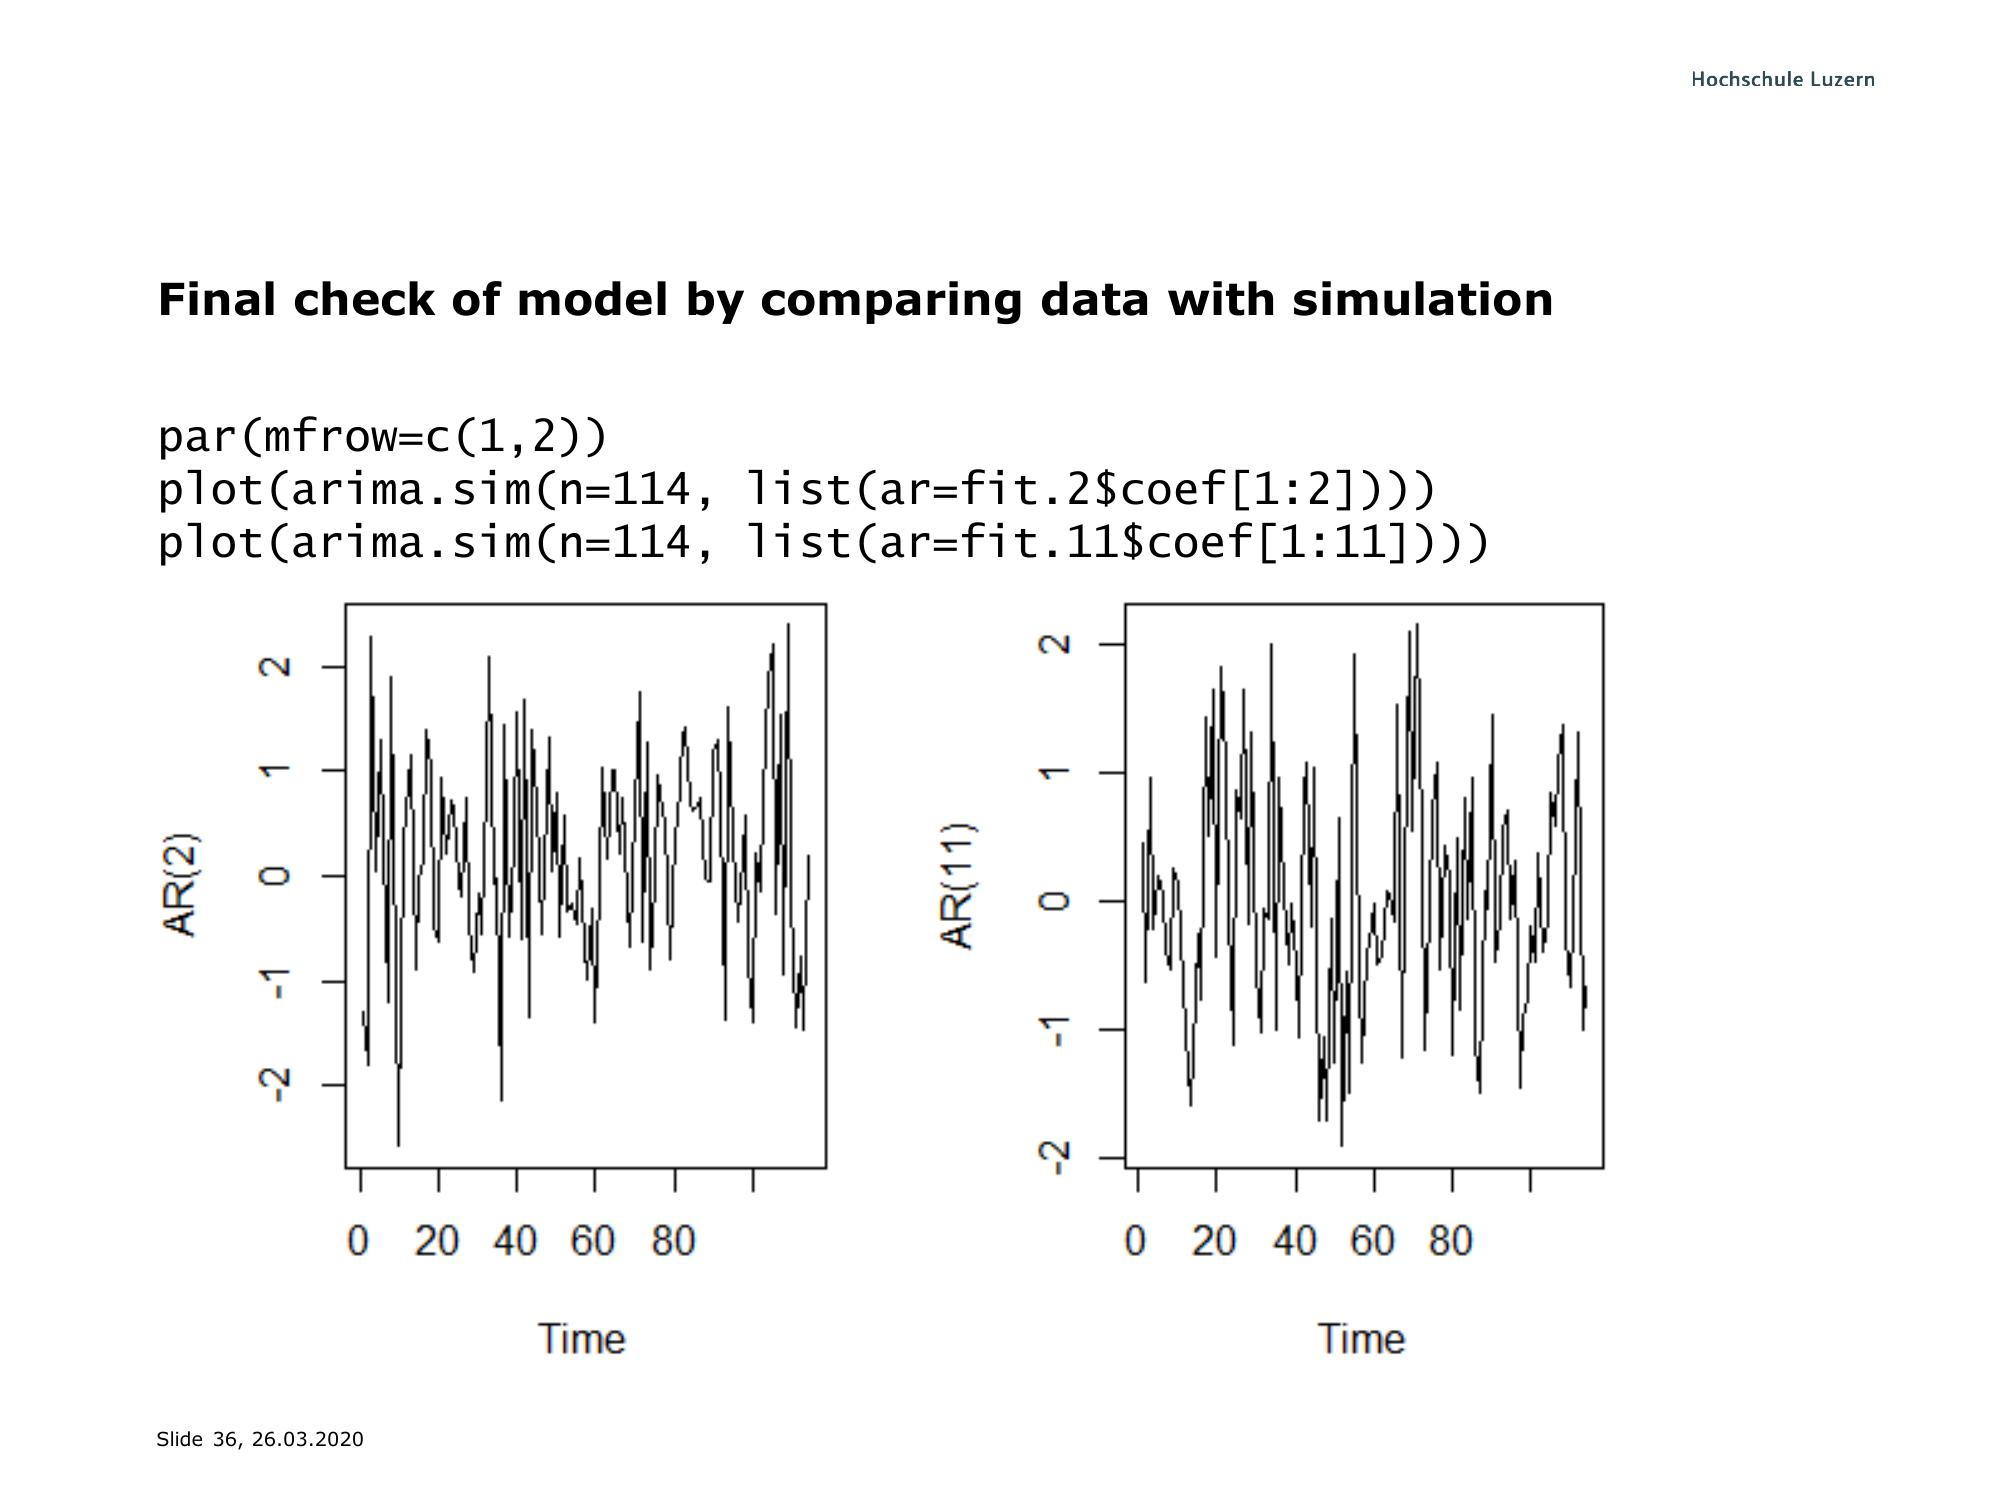Title: (135, 273, 1561, 336)
